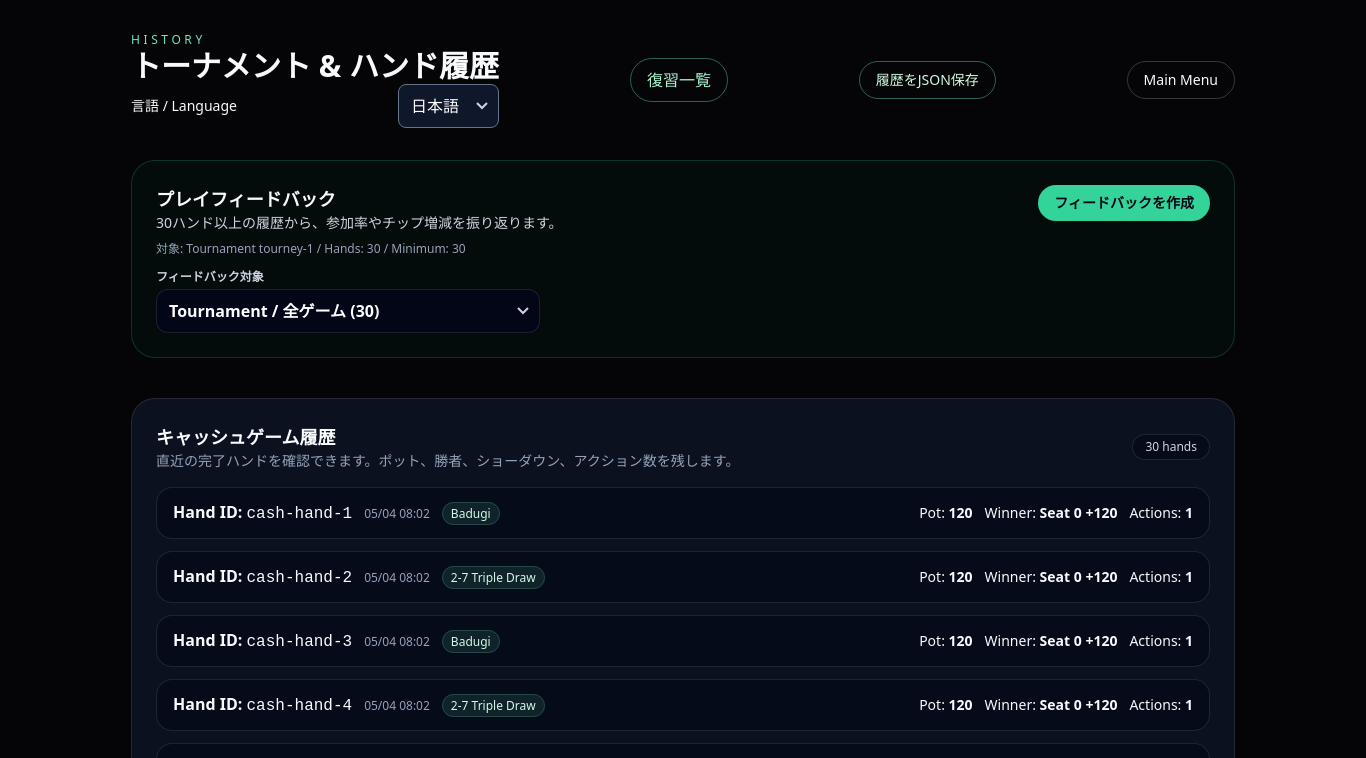
Scenario: HistoryScreen › requests AI play feedback when enough hands and auth are available
Click the button "フィードバックを作成" at x=1124, y=203, box [1038, 185, 1210, 221]
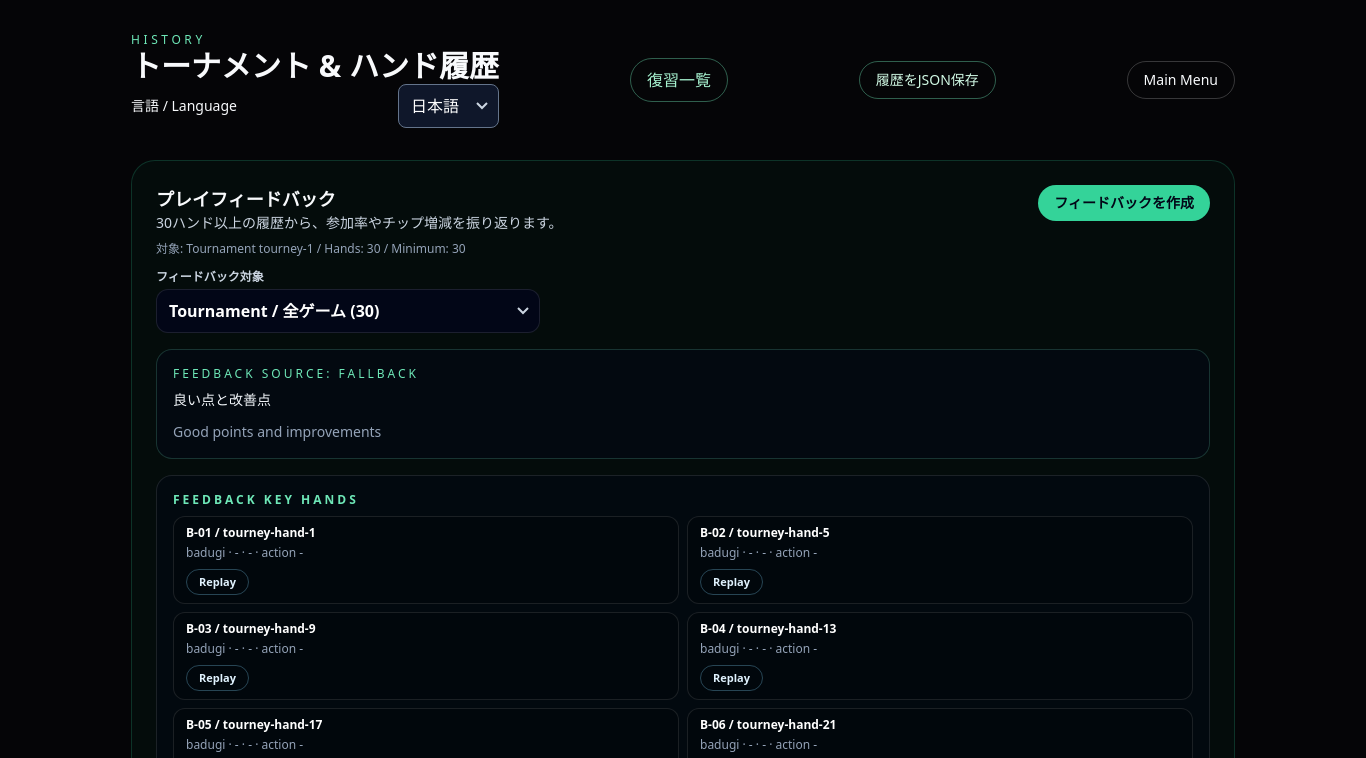
Expected: the text "良い点と改善点" is shown, [173, 390, 271, 409]
